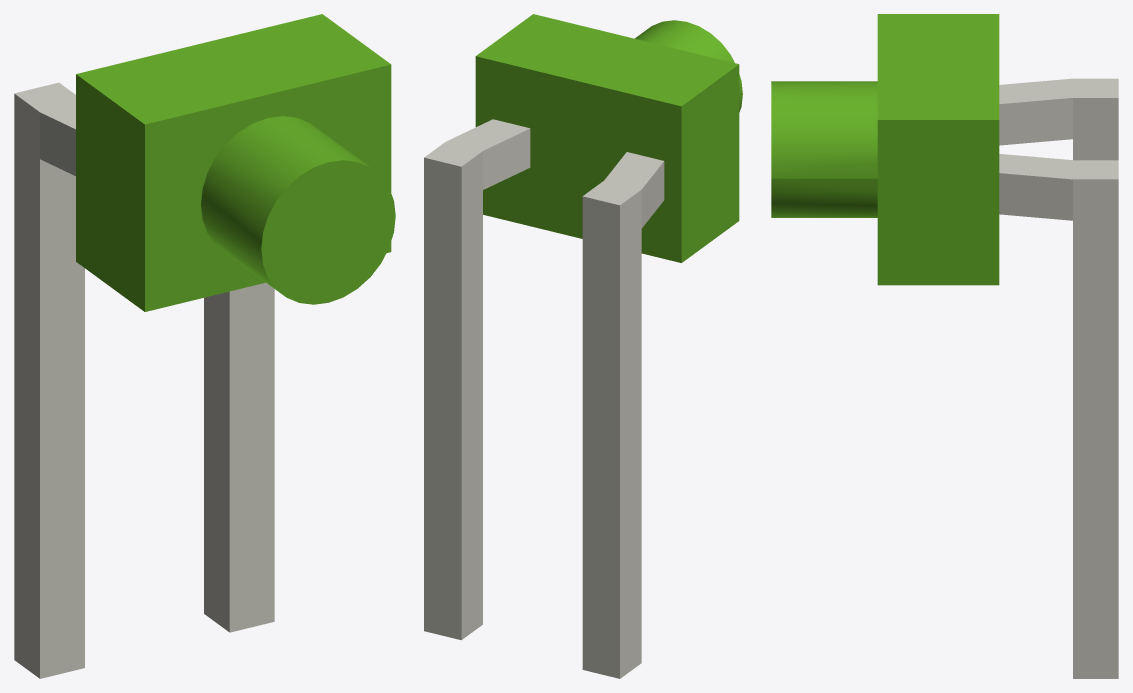
File: kc-led_d1.8mm_w1.8mm_h2.4mm_horizontal_o1.27mm_z4.9mm.glb
The picture shows the model from 3 angles, left to right: view 1: azimuth 30°, elevation 25°; view 2: azimuth 150°, elevation 25°; view 3: azimuth 270°, elevation 25°; orthographic projection. The views are drawn at different scales.
Visible parts, largest first — view 1: 0.16666666666666666_0.4166666666666667_0_0, 0.6666666666666666_0.6666666666666666_0.5833333333333334_0.8; view 2: 0.6666666666666666_0.6666666666666666_0.5833333333333334_0.8, 0.16666666666666666_0.4166666666666667_0_0; view 3: 0.16666666666666666_0.4166666666666667_0_0, 0.6666666666666666_0.6666666666666666_0.5833333333333334_0.8.
Boxes of the visible parts, x1,y1,x2,y2 form: 0.16666666666666666_0.4166666666666667_0_0: [76, 14, 395, 311]; 0.6666666666666666_0.6666666666666666_0.5833333333333334_0.8: [14, 82, 274, 678]; 0.6666666666666666_0.6666666666666666_0.5833333333333334_0.8: [424, 119, 664, 678]; 0.16666666666666666_0.4166666666666667_0_0: [475, 14, 742, 262]; 0.16666666666666666_0.4166666666666667_0_0: [771, 14, 999, 285]; 0.6666666666666666_0.6666666666666666_0.5833333333333334_0.8: [999, 78, 1118, 678].
Bounding box in the file's own units: 0.33 × 0.815 × 0.457.
